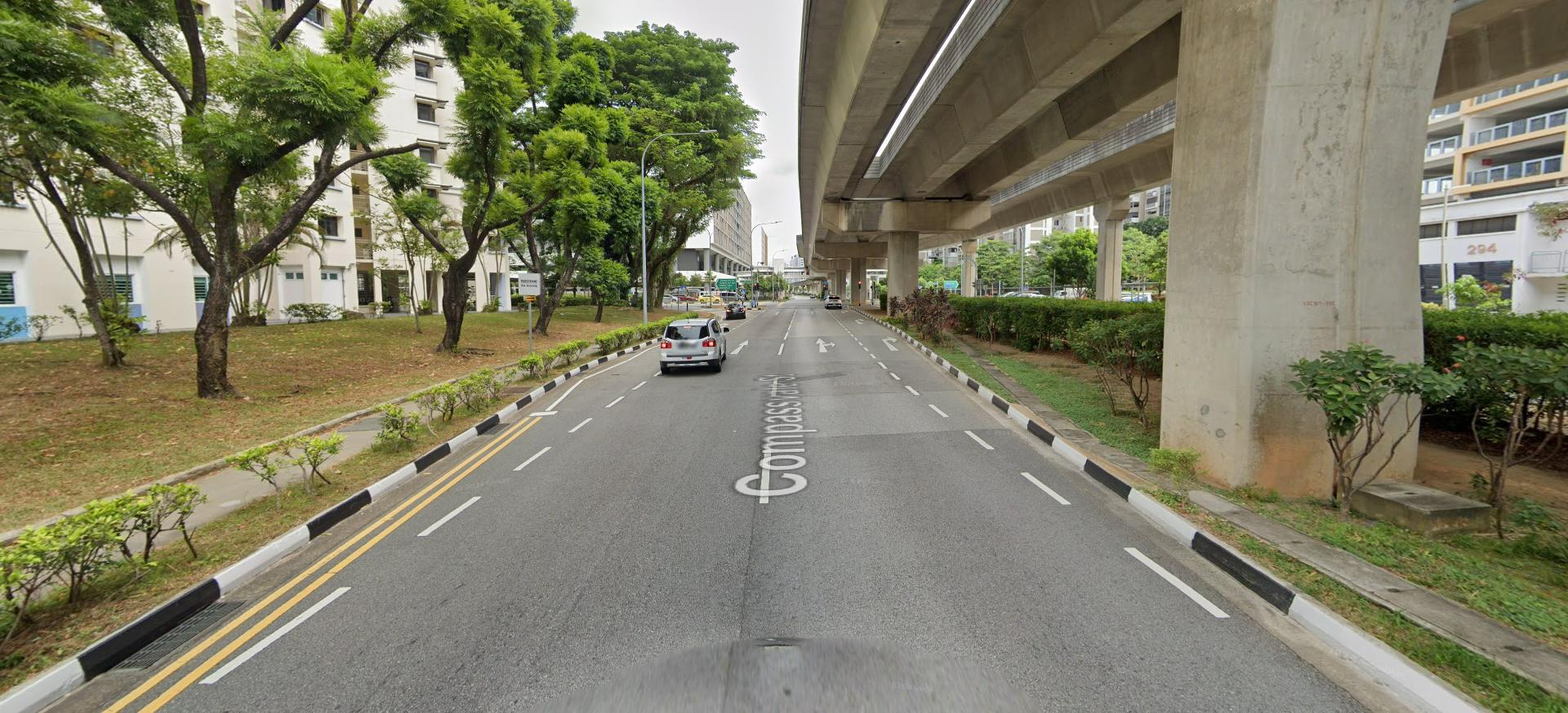normal: (112, 599, 252, 670)
